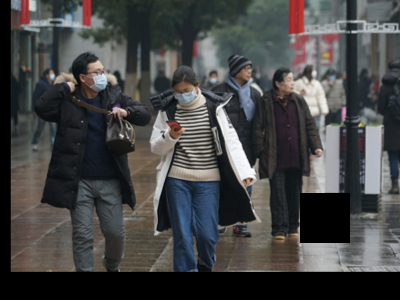with_mask: (86, 65, 109, 92), (173, 84, 197, 104), (47, 71, 56, 83)
without_mask: (281, 74, 295, 92), (239, 64, 253, 79)
